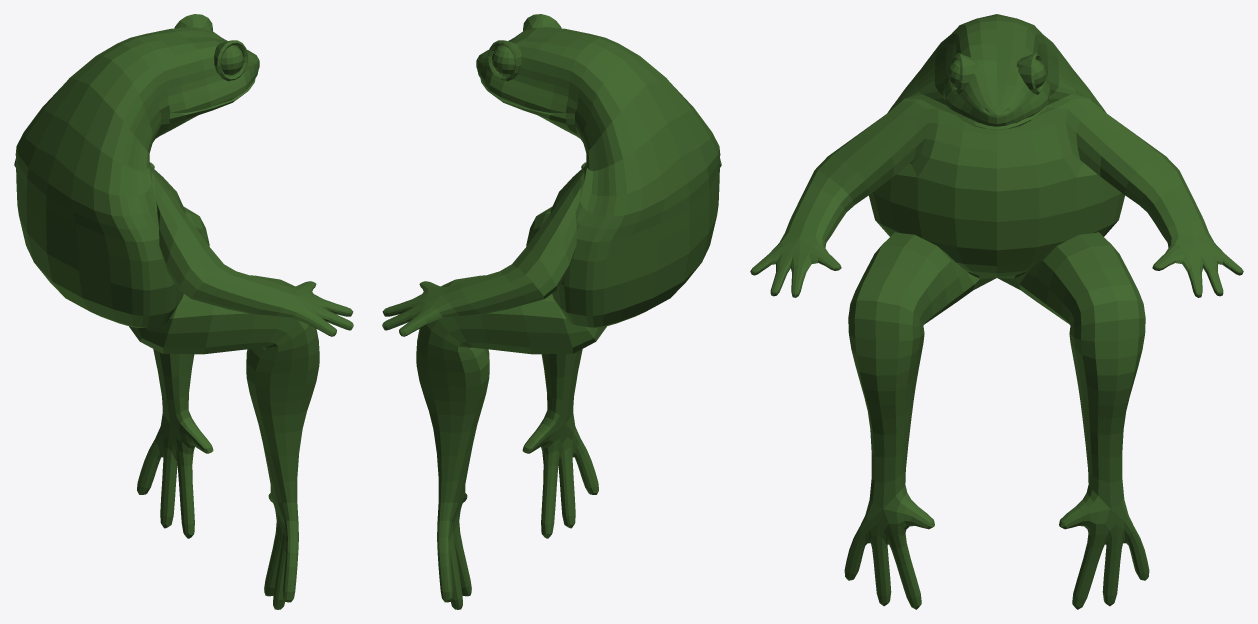
File: Frog.fbx
The picture shows the model from 3 angles, left to right: view 1: azimuth 30°, elevation 25°; view 2: azimuth 150°, elevation 25°; view 3: azimuth 270°, elevation 25°; orthographic projection.
Parts seen in each view (by area): view 1: Frog Joined; view 2: Frog Joined; view 3: Frog Joined.
Part boxes in pixels (box(x1,y1,x2,y2)): Frog Joined: box(14, 14, 353, 609); Frog Joined: box(382, 14, 721, 609); Frog Joined: box(750, 14, 1243, 609).
Bounding box in the file's own units: 260 × 632 × 516.
